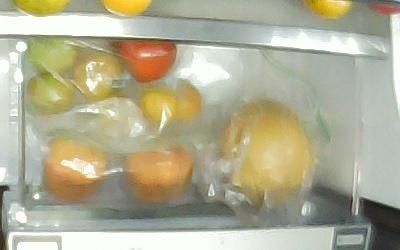peach_vinyl: (40, 133, 108, 202), (125, 144, 193, 200)
pear_vinyl: (218, 97, 314, 201)
tangerine_vinyl: (135, 84, 176, 125), (173, 80, 202, 122)
tomato_vinyl: (109, 40, 177, 83), (70, 48, 122, 101), (25, 71, 74, 117), (26, 38, 79, 73)
